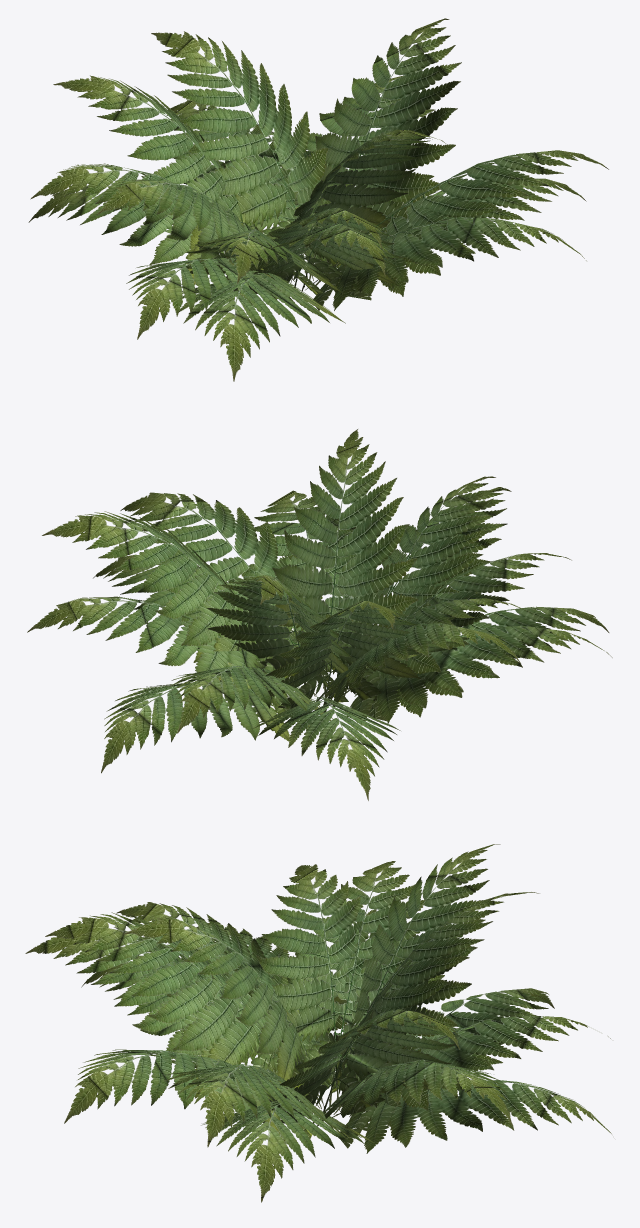
Rendered from understory-fern.glb.
The picture shows the model from 3 angles, top to bottom: view 1: azimuth 30°, elevation 25°; view 2: azimuth 150°, elevation 25°; view 3: azimuth 270°, elevation 25°; orthographic projection. The views are drawn at different scales.
Parts seen in each view (by area): view 1: SM_MZRa_Fern_B0512; view 2: SM_MZRa_Fern_B0512; view 3: SM_MZRa_Fern_B0512.
Boxes of the visible parts, x1,y1,x2,y2 form: SM_MZRa_Fern_B0512: [28, 18, 608, 381]; SM_MZRa_Fern_B0512: [27, 429, 612, 800]; SM_MZRa_Fern_B0512: [25, 844, 611, 1202].
Size of the model in its own units: 1.78 by 0.6881 by 1.75.
1 material, 1 textured.
